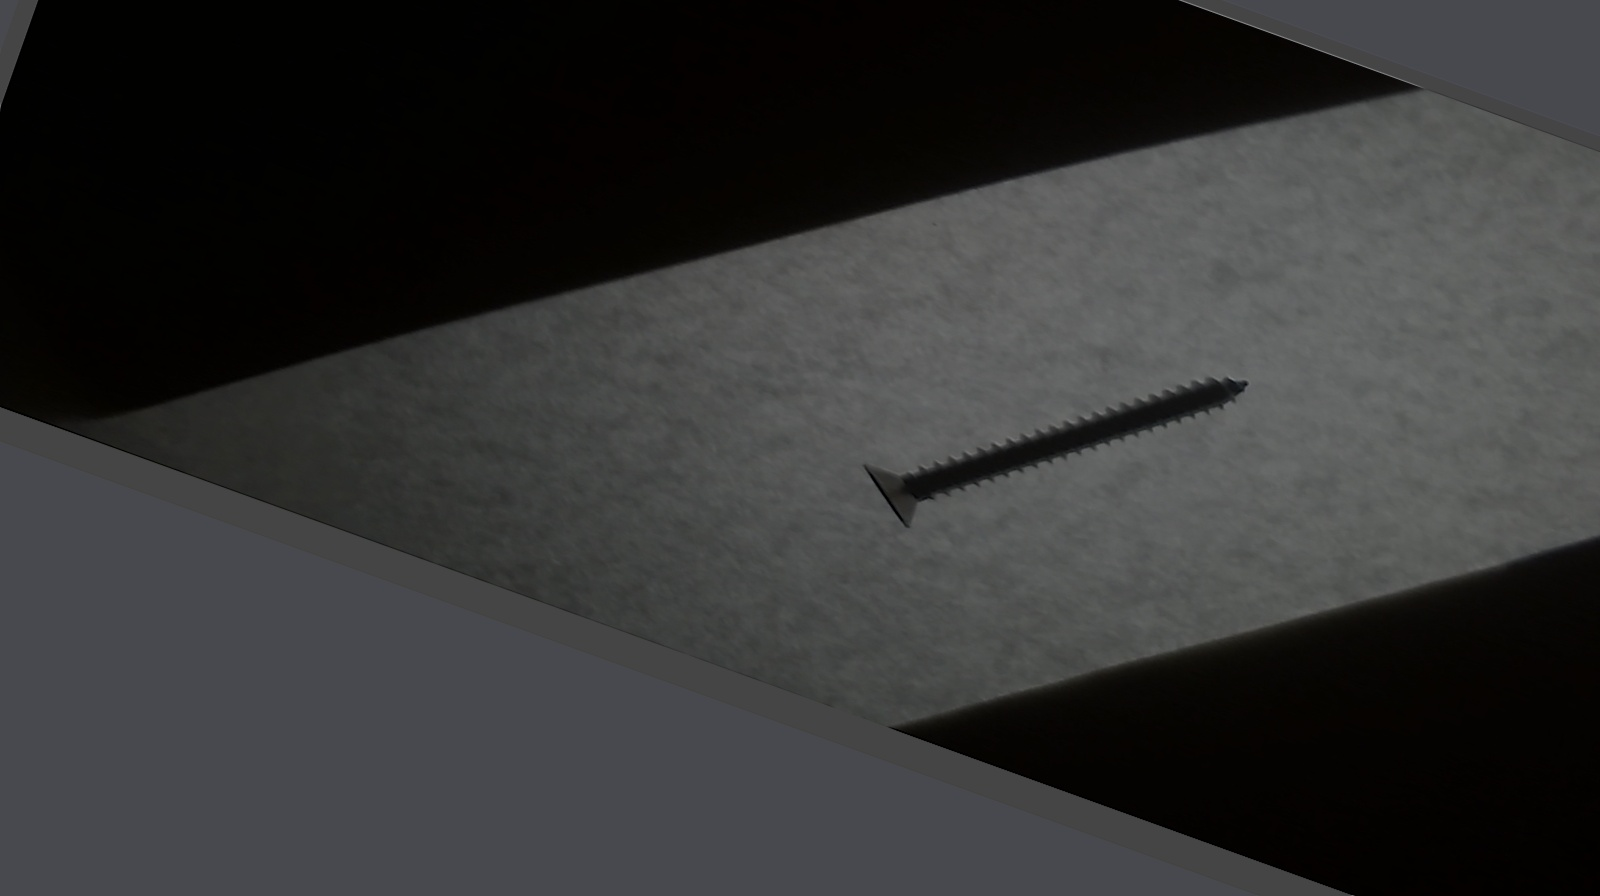S002: (833, 239, 1280, 637)
